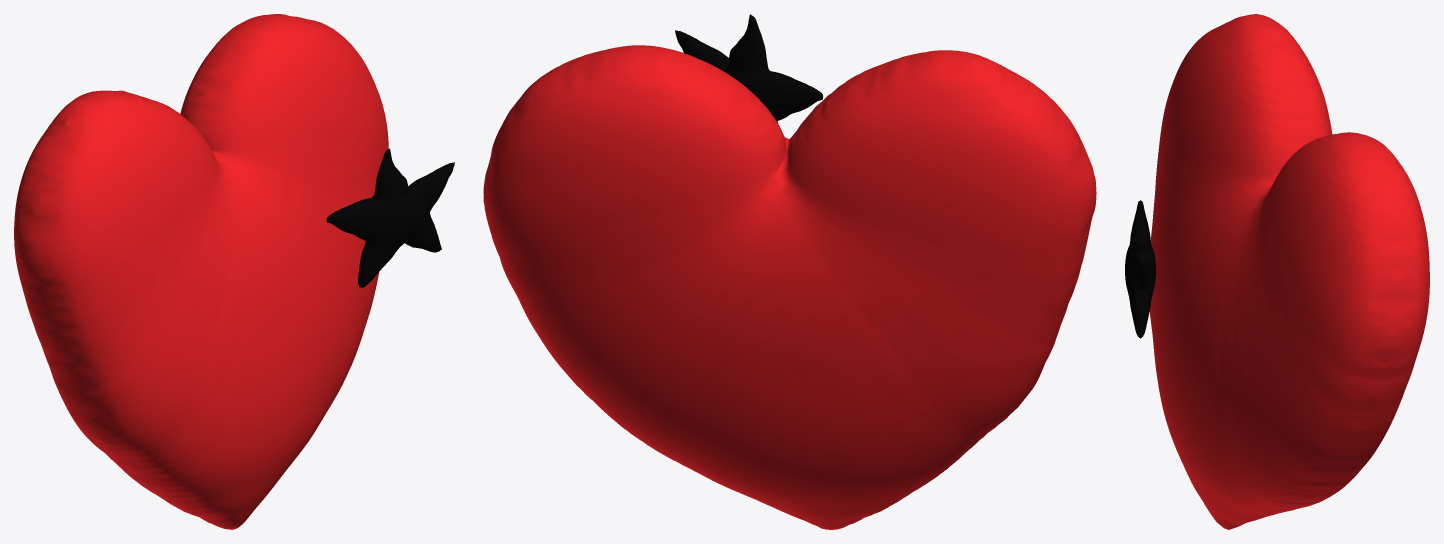
Rendered from Health.fbx.
The picture shows the model from 3 angles, left to right: view 1: azimuth 30°, elevation 25°; view 2: azimuth 150°, elevation 25°; view 3: azimuth 270°, elevation 25°; orthographic projection. The views are drawn at different scales.
Parts seen in each view (by area): view 1: node_id52, node_id54; view 2: node_id52, node_id54; view 3: node_id52, node_id54.
Part boxes in pixels (box(x1,y1,x2,y2)): node_id52: box(14, 14, 388, 529); node_id54: box(326, 148, 454, 287); node_id52: box(483, 45, 1096, 529); node_id54: box(675, 14, 822, 123); node_id52: box(1149, 14, 1429, 529); node_id54: box(1125, 200, 1155, 338).
Bounding box in the file's own units: 0.4358 × 0.4283 × 0.2645.
2 materials, 2 textured.
